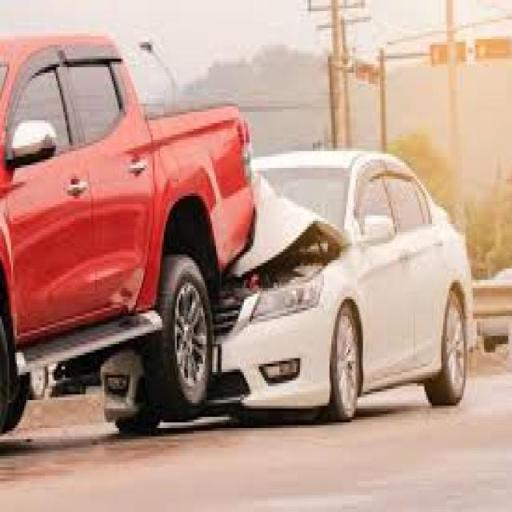小汽车撞小汽车: (1, 33, 476, 415)
